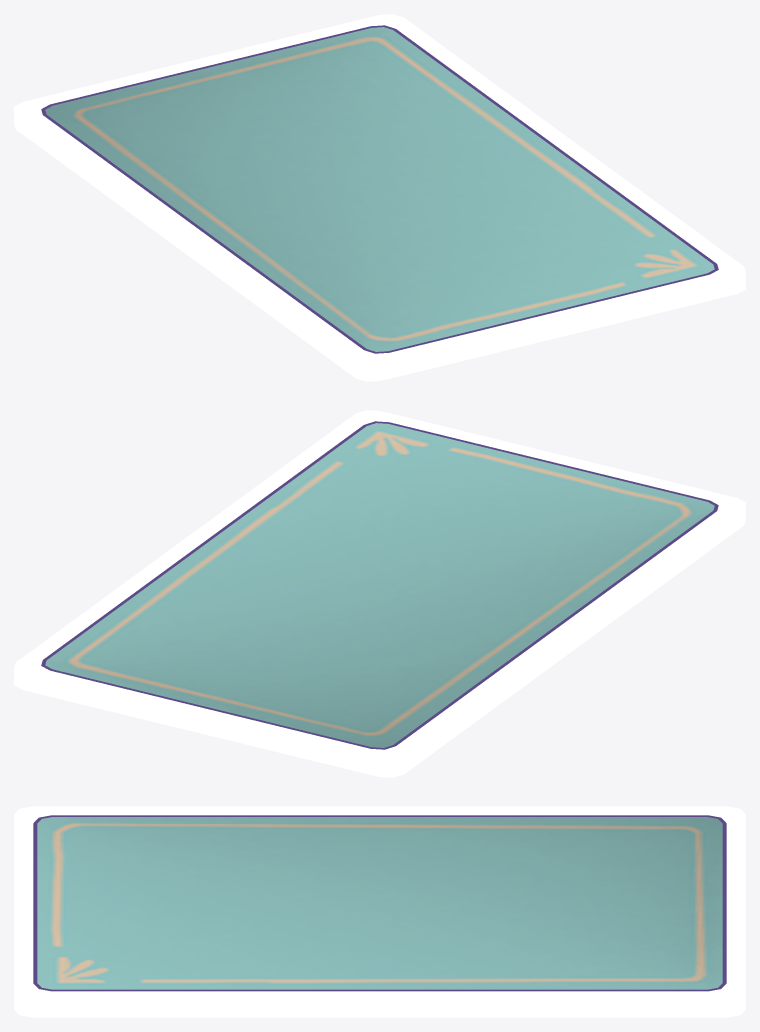
File: Floor_Vapor_02.glb
The picture shows the model from 3 angles, top to bottom: view 1: azimuth 30°, elevation 25°; view 2: azimuth 150°, elevation 25°; view 3: azimuth 270°, elevation 25°; orthographic projection. The views are drawn at different scales.
Visible parts, largest first — view 1: Floor_Vapor_02; view 2: Floor_Vapor_02; view 3: Floor_Vapor_02.
Part boxes in pixels (x1,y1,x2,y2): Floor_Vapor_02: (14, 14, 745, 381); Floor_Vapor_02: (14, 410, 745, 777); Floor_Vapor_02: (14, 806, 745, 1017).
Size of what is drawn, in the model's own units: 2.45 by 0.1018 by 3.9.
3 materials, 3 textured.
